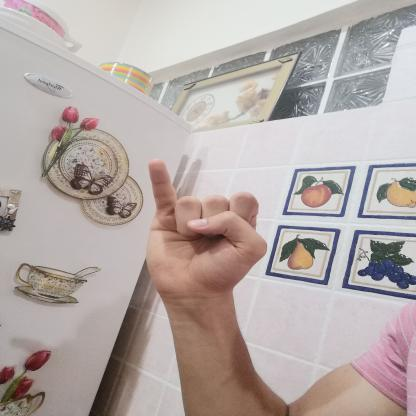MEEM: (121, 147, 286, 309)
